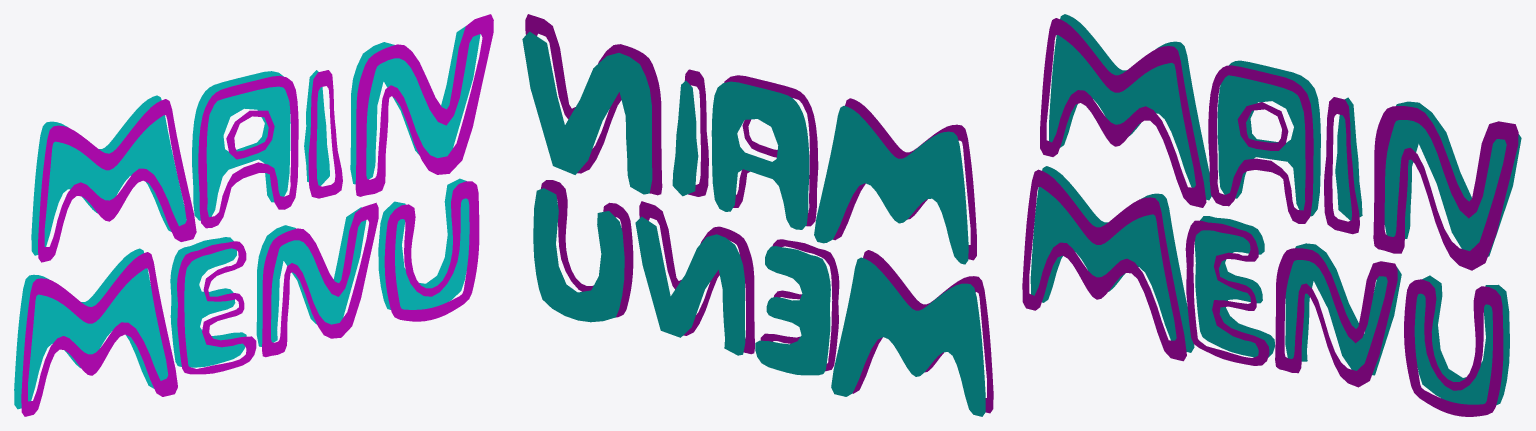
Rendered from mesh_text_mainmenu.fbx.
3 renders of one model, left to right at view 1: azimuth 30°, elevation 25°; view 2: azimuth 150°, elevation 25°; view 3: azimuth 330°, elevation 25°, orthographic. The views are drawn at different scales.
Visible parts, largest first — view 1: mesh_text_mainmenu, mesh_text_mainmenu1; view 2: mesh_text_mainmenu, mesh_text_mainmenu1; view 3: mesh_text_mainmenu, mesh_text_mainmenu1.
Boxes of the visible parts, box(x1,y1,x2,y2) form: mesh_text_mainmenu: box(14, 26, 480, 409); mesh_text_mainmenu1: box(21, 14, 493, 416); mesh_text_mainmenu: box(522, 31, 985, 416); mesh_text_mainmenu1: box(525, 14, 993, 413); mesh_text_mainmenu: box(1030, 14, 1521, 405); mesh_text_mainmenu1: box(1022, 18, 1518, 416).
Bounding box in the file's own units: 0.0764 × 0.0468 × 0.00212.
